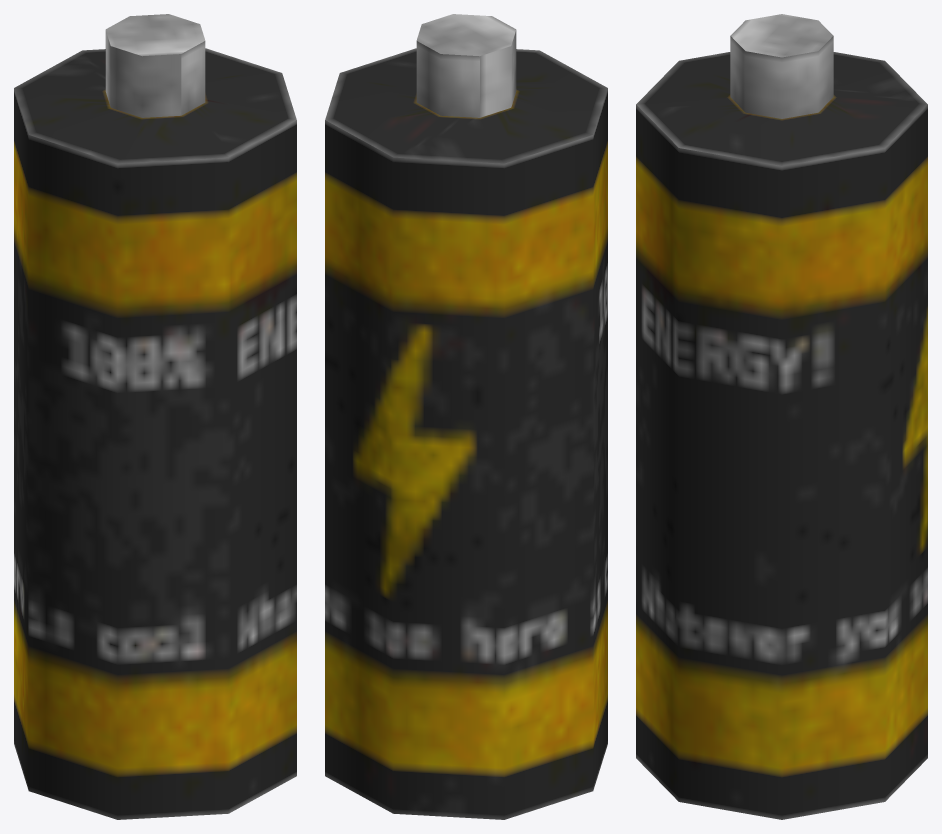
File: Battery.fbx
The picture shows the model from 3 angles, left to right: view 1: azimuth 30°, elevation 25°; view 2: azimuth 150°, elevation 25°; view 3: azimuth 270°, elevation 25°; orthographic projection.
Parts seen in each view (by area): view 1: battery; view 2: battery; view 3: battery.
Boxes of the visible parts, x1,y1,x2,y2 form: battery: [14, 14, 296, 819]; battery: [325, 14, 607, 819]; battery: [636, 14, 927, 819].
Size of the model in its own units: 32.74 by 90.79 by 32.74.
